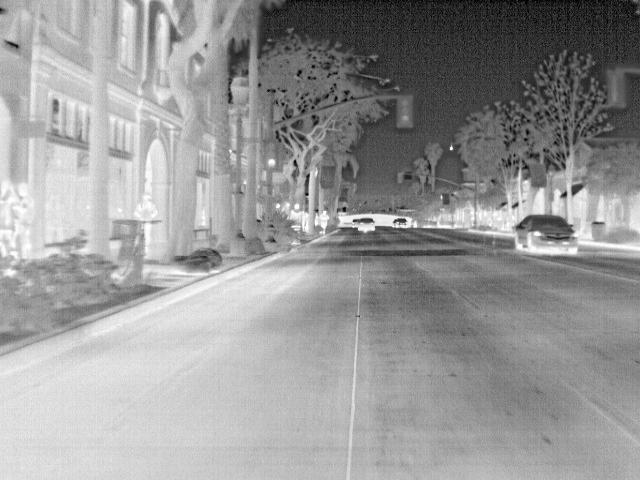car: (513, 214, 581, 258), (355, 218, 375, 232), (393, 215, 410, 227)
person: (15, 183, 36, 256), (1, 184, 18, 258), (138, 192, 160, 221), (320, 207, 332, 234)
